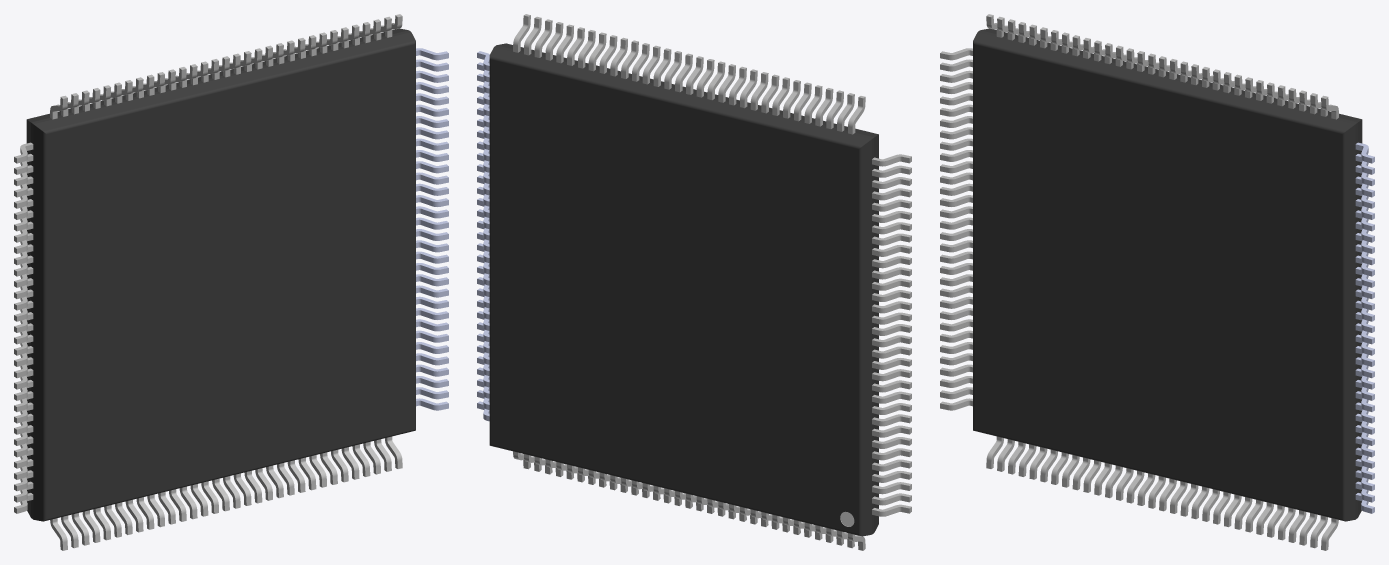
File: hero-3d.gltf
3 renders of one model, left to right at view 1: azimuth 30°, elevation 25°; view 2: azimuth 150°, elevation 25°; view 3: azimuth 330°, elevation 25°, orthographic.
Parts seen in each view (by area): view 1: 25E2F96E-8953-4AAE-AB3C-B0F19C737C29; view 2: 25E2F96E-8953-4AAE-AB3C-B0F19C737C29; view 3: 25E2F96E-8953-4AAE-AB3C-B0F19C737C29.
Part boxes in pixels (x1,y1,x2,y2): 25E2F96E-8953-4AAE-AB3C-B0F19C737C29: (14, 14, 448, 550); 25E2F96E-8953-4AAE-AB3C-B0F19C737C29: (477, 14, 911, 550); 25E2F96E-8953-4AAE-AB3C-B0F19C737C29: (940, 14, 1374, 550).
Bounding box in the file's own units: 0.016 × 0.016 × 0.00135.
